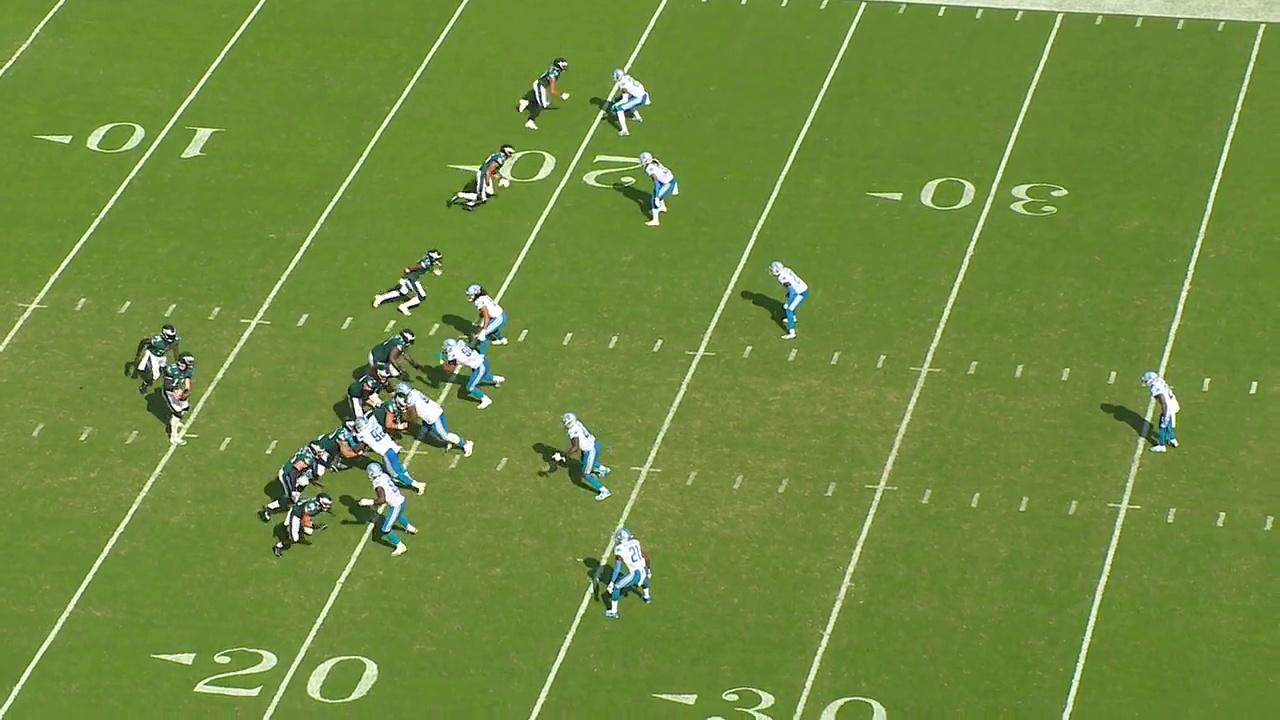defense: (350, 416, 430, 496), (396, 383, 476, 456), (358, 462, 419, 557), (551, 409, 613, 501), (601, 526, 657, 622), (439, 340, 505, 410), (1141, 370, 1184, 457), (766, 259, 811, 342), (637, 149, 683, 227), (464, 281, 509, 356), (609, 67, 652, 136)
oline: (260, 439, 325, 521), (346, 364, 391, 428), (312, 418, 357, 478), (368, 328, 415, 383), (371, 392, 409, 437)
qb: (164, 351, 199, 450)
skill: (372, 247, 446, 321), (514, 57, 570, 136), (452, 146, 516, 213), (274, 491, 334, 561), (133, 323, 181, 401)
